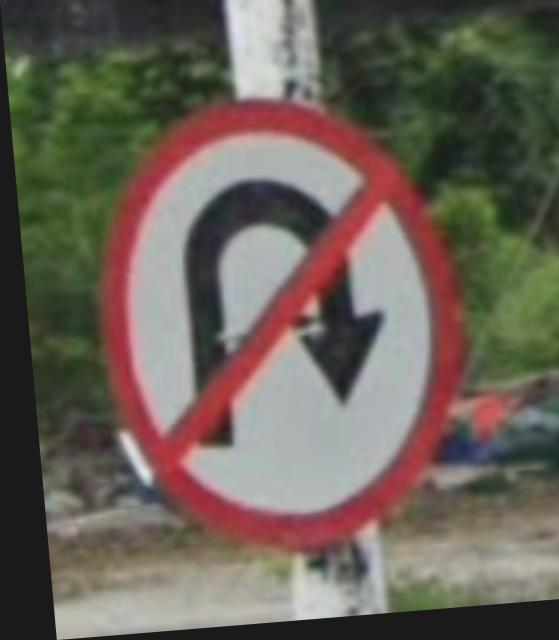not_u_turn_right: (81, 89, 472, 571)
